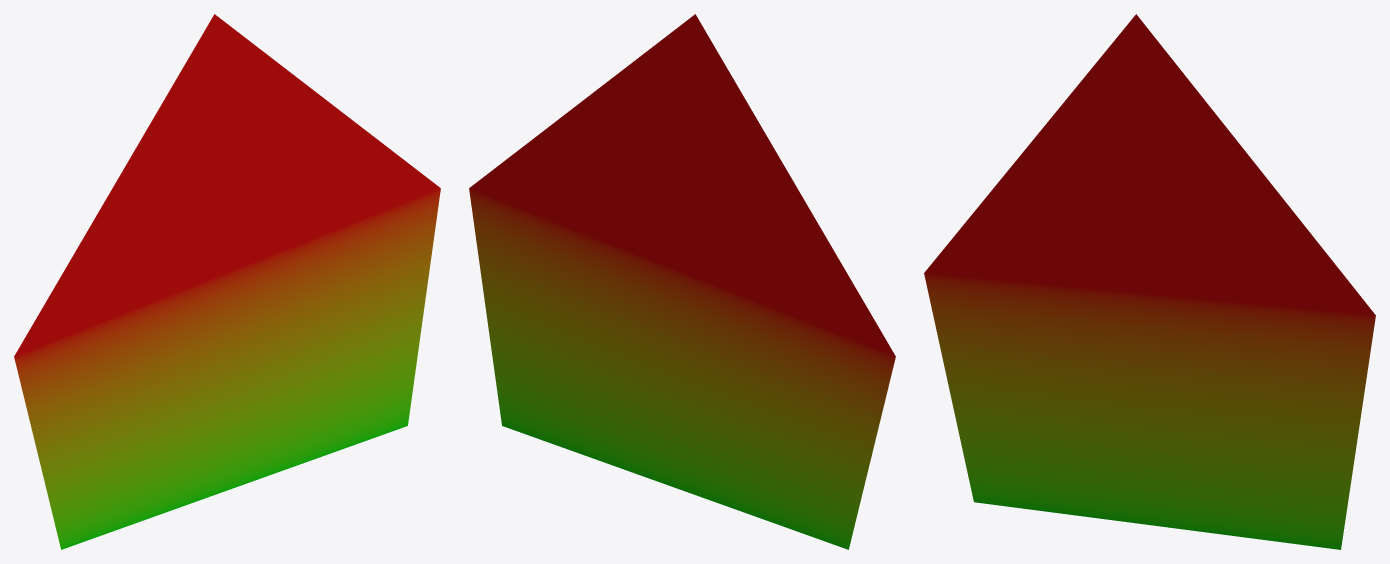
The model's file is Var10_LOD5.fbx.
3 views of the same model, side by side, from view 1: azimuth 30°, elevation 25°; view 2: azimuth 150°, elevation 25°; view 3: azimuth 330°, elevation 25° (orthographic). The views are drawn at different scales.
Visible parts, largest first — view 1: _12c3_Var10_LOD5; view 2: _12c3_Var10_LOD5; view 3: _12c3_Var10_LOD5.
Part boxes in pixels (<box>): _12c3_Var10_LOD5: <box>14,14,440,549</box>; _12c3_Var10_LOD5: <box>469,14,895,549</box>; _12c3_Var10_LOD5: <box>924,14,1375,549</box>.
Size of the model in its own units: 19 by 21.2 by 7.45e-08.
